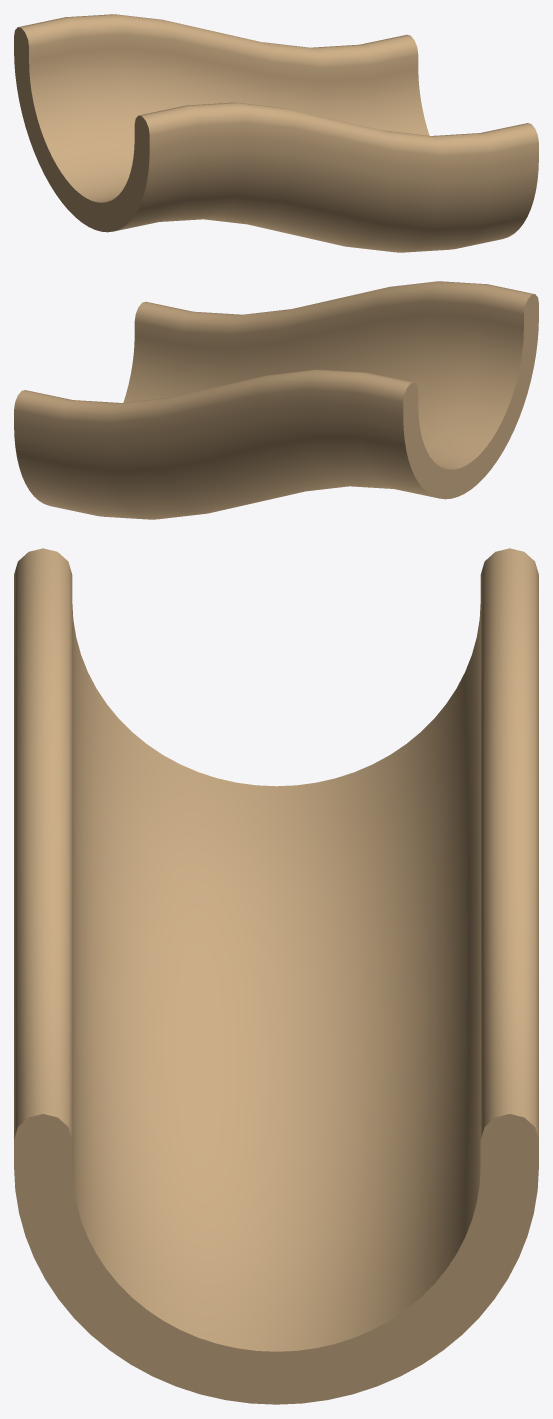
The model's file is rail_slope_gentle_l3.glb.
The picture shows the model from 3 angles, top to bottom: view 1: azimuth 30°, elevation 25°; view 2: azimuth 150°, elevation 25°; view 3: azimuth 270°, elevation 25°; orthographic projection. The views are drawn at different scales.
Visible parts, largest first — view 1: rail_slope_gentle_l3_lod0; view 2: rail_slope_gentle_l3_lod0; view 3: rail_slope_gentle_l3_lod0.
Part boxes in pixels (x1=…): rail_slope_gentle_l3_lod0: x1=14, y1=14, x2=538, y2=252; rail_slope_gentle_l3_lod0: x1=14, y1=281, x2=538, y2=519; rail_slope_gentle_l3_lod0: x1=14, y1=548, x2=538, y2=1404.
Size of what is drawn, in the model's own units: 0.0596 by 0.037 by 0.036.
